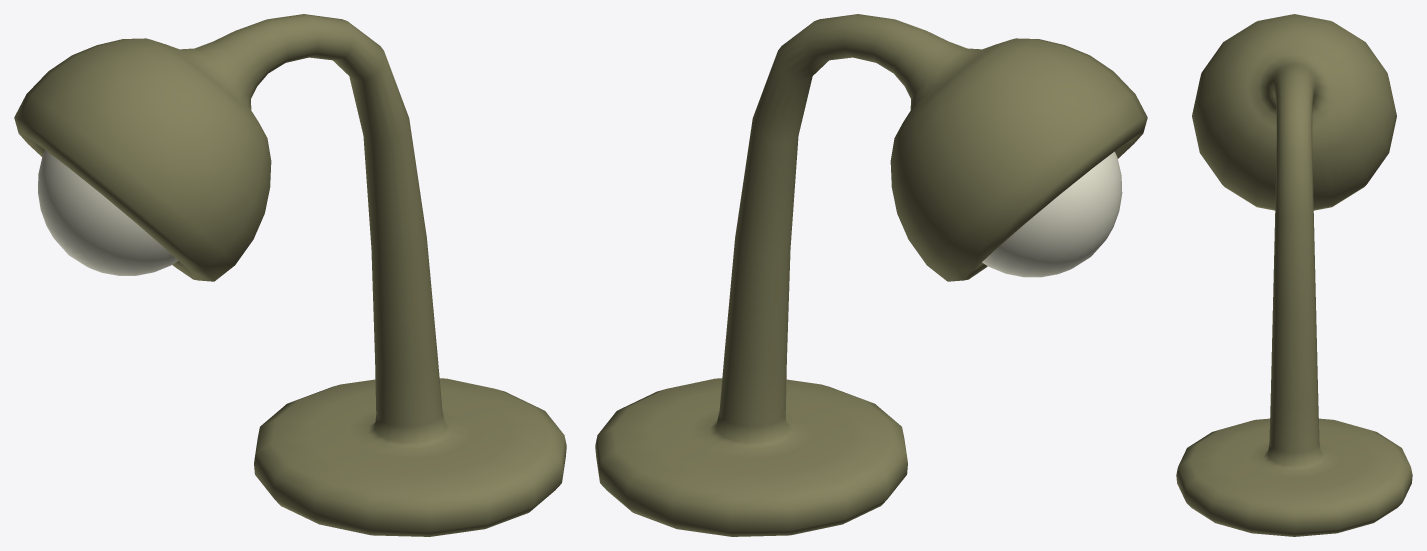
Rendered from lamp.glb.
3 views of the same model, side by side, from view 1: azimuth 30°, elevation 25°; view 2: azimuth 150°, elevation 25°; view 3: azimuth 270°, elevation 25° (orthographic). The views are drawn at different scales.
Visible parts, largest first — view 1: Lamp; view 2: Lamp; view 3: Lamp.
Part boxes in pixels (<box>): Lamp: <box>14,14,566,536</box>; Lamp: <box>595,14,1147,536</box>; Lamp: <box>1176,14,1412,536</box>.
Bounding box in the file's own units: 1.15 × 1.06 × 0.6163.
1 material, 1 textured.
